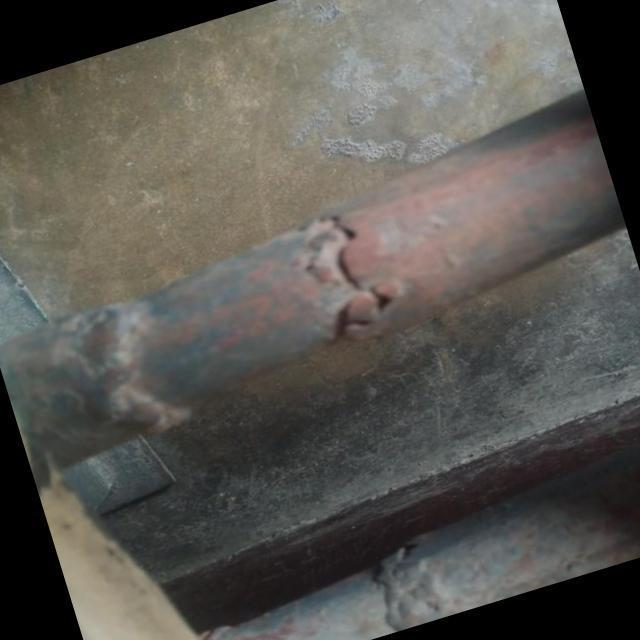defect: (311, 208, 395, 335)
